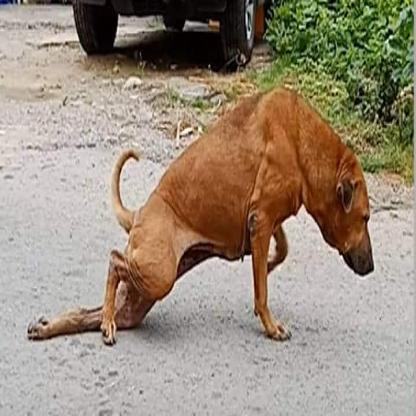dog: (20, 103, 392, 340)
injured: (22, 247, 210, 344)
